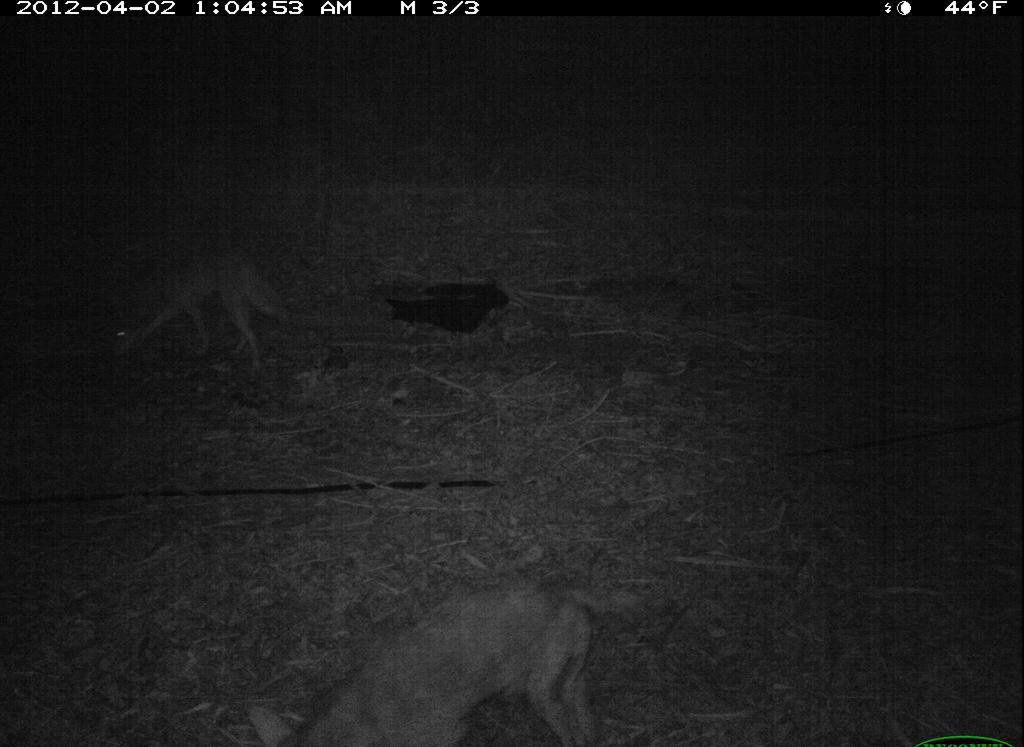coyote: (227, 574, 634, 747), (95, 228, 297, 379)
